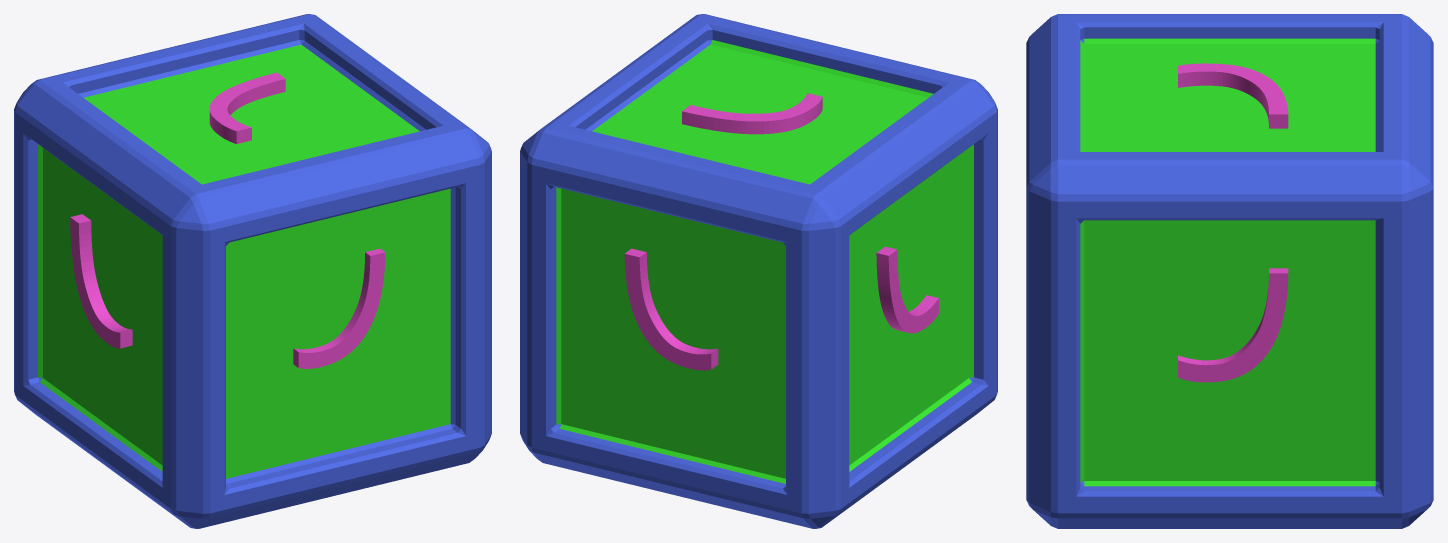
3 views of the same model, side by side, from view 1: azimuth 30°, elevation 25°; view 2: azimuth 150°, elevation 25°; view 3: azimuth 270°, elevation 25° (orthographic). The views are drawn at different scales.
Parts seen in each view (by area): view 1: Text.002; view 2: Text.002; view 3: Text.002.
Part boxes in pixels (x1=…): Text.002: x1=14, y1=14, x2=491, y2=528; Text.002: x1=520, y1=14, x2=997, y2=528; Text.002: x1=1026, y1=14, x2=1433, y2=528.
Size of the model in its own units: 15 by 15 by 15.
